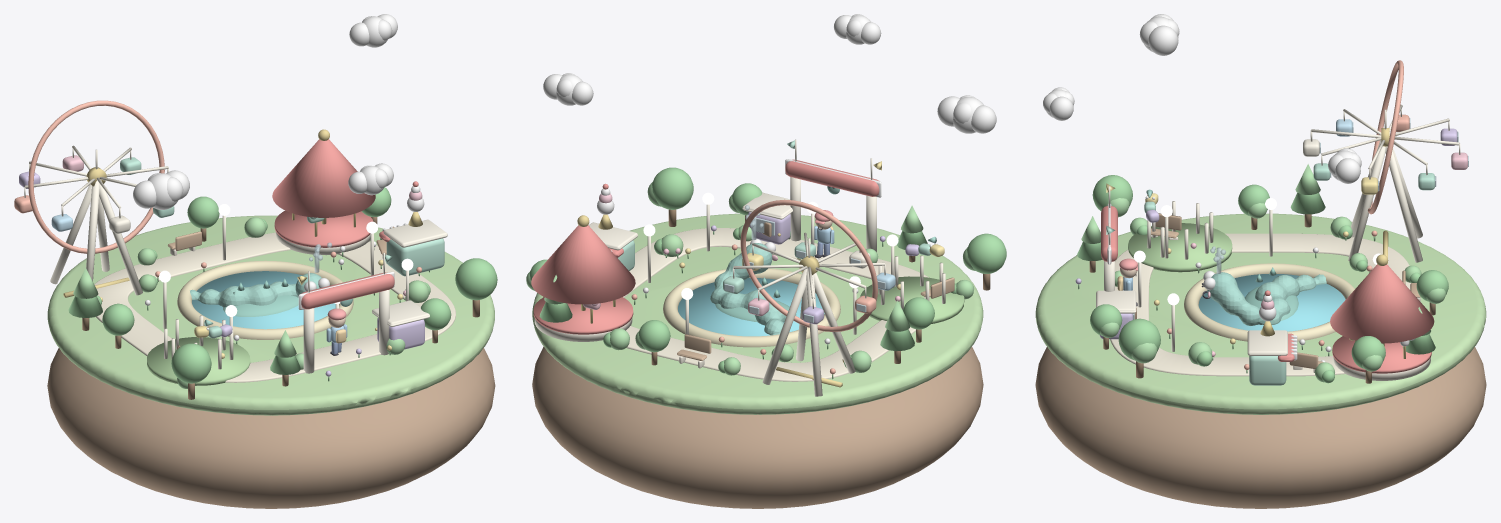
The model's file is nessie_park.glb.
3 views of the same model, side by side, from view 1: azimuth 30°, elevation 25°; view 2: azimuth 150°, elevation 25°; view 3: azimuth 270°, elevation 25° (orthographic).
Visible parts, largest first — view 1: dirt, grass, path_loop, carousel_tent, sand_bank, water, carousel_band, coaster_pad, ferris_wheel, nessie, arch_top, ic_booth (+18 smaller); view 2: dirt, grass, path_loop, carousel_tent, sand_bank, water, carousel_band, ferris_wheel, nessie, coaster_pad, arch_top, leaf1_5.0_-3.6 (+16 smaller); view 3: dirt, grass, path_loop, carousel_tent, water, sand_bank, coaster_pad, nessie, carousel_band, ferris_wheel, leaf1_5.0_-3.6, ic_booth (+14 smaller).
Part boxes in pixels (box(x1,y1,x2,y2)): dirt: box(47, 348, 495, 508); grass: box(47, 215, 494, 415); path_loop: box(94, 232, 455, 382); carousel_tent: box(272, 139, 375, 217); sand_bank: box(177, 260, 353, 339); water: box(192, 271, 335, 329); carousel_band: box(274, 210, 373, 247); coaster_pad: box(147, 337, 250, 385); ferris_wheel: box(28, 100, 164, 253); nessie: box(190, 273, 321, 307); arch_top: box(301, 272, 394, 309); ic_booth: box(386, 238, 444, 276); dirt: box(532, 346, 983, 508); grass: box(532, 213, 983, 414); path_loop: box(623, 228, 928, 381); carousel_tent: box(531, 225, 635, 304); sand_bank: box(663, 268, 840, 347); water: box(678, 278, 824, 336); carousel_band: box(533, 297, 633, 334); ferris_wheel: box(740, 199, 877, 331); nessie: box(710, 243, 785, 335); coaster_pad: box(860, 276, 964, 323); arch_top: box(785, 159, 879, 196); leaf1_5.0_-3.6: box(652, 167, 693, 209); dirt: box(1035, 347, 1486, 508); grass: box(1035, 213, 1486, 414); path_loop: box(1110, 233, 1410, 376); carousel_tent: box(1330, 264, 1434, 343); water: box(1198, 274, 1345, 331); sand_bank: box(1184, 263, 1354, 341); coaster_pad: box(1128, 223, 1232, 272); nessie: box(1207, 272, 1326, 325); carousel_band: box(1332, 336, 1431, 373); ferris_wheel: box(1367, 60, 1403, 214); leaf1_5.0_-3.6: box(1118, 318, 1160, 360); ic_booth: box(1249, 356, 1286, 385).
Size of the model in its own units: 13.4 by 12.57 by 13.4.
